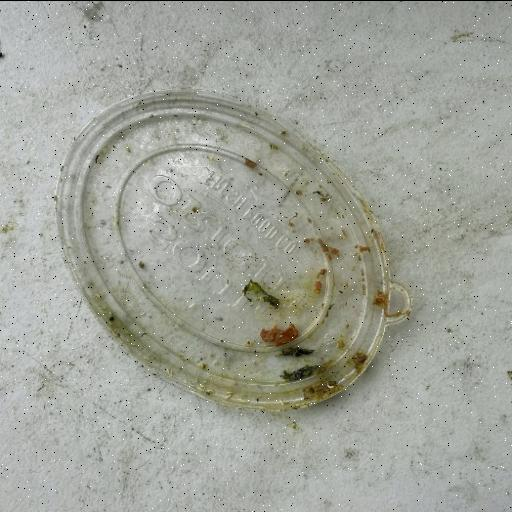Plastic: (52, 86, 412, 414)
